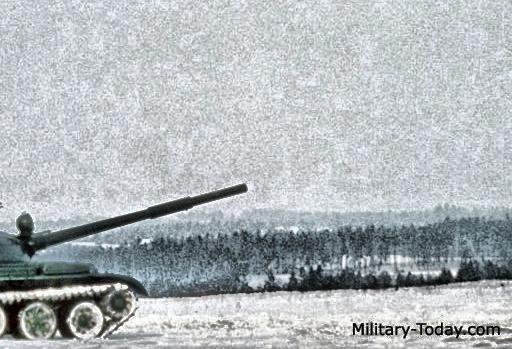tanks: (1, 186, 247, 340)
